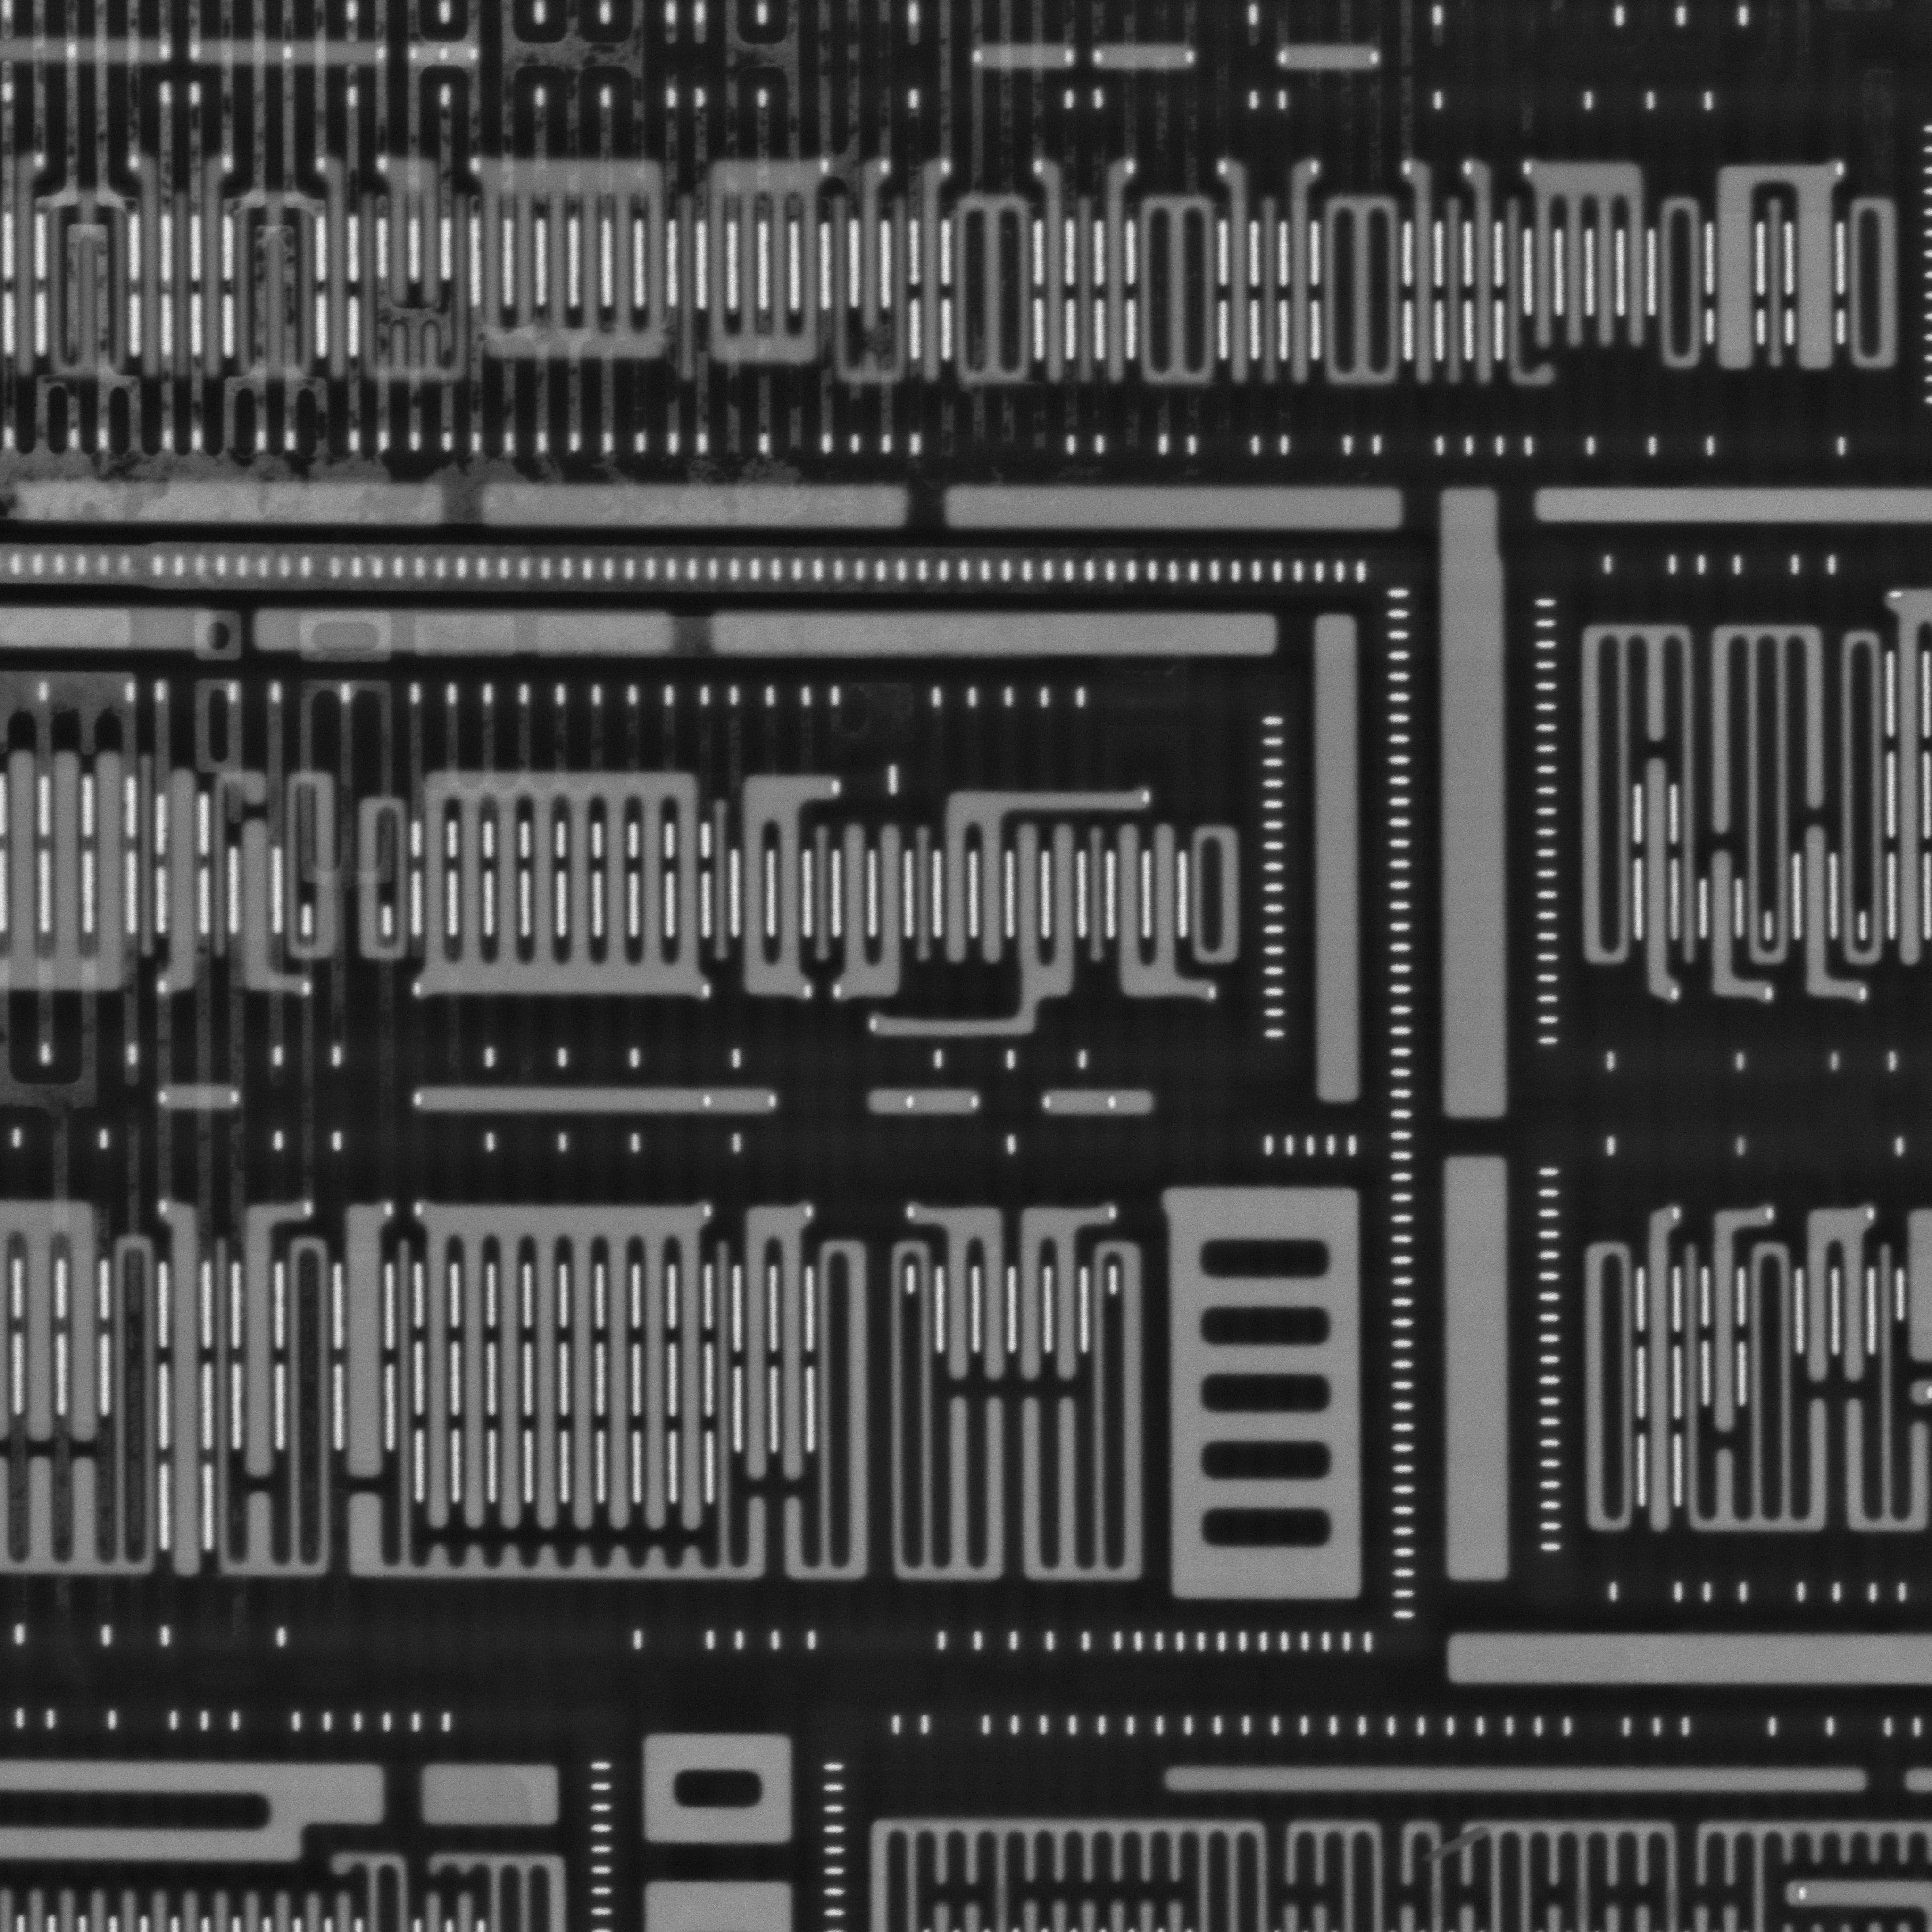circularDummy: (1437, 487, 1509, 1120), (1164, 1753, 1870, 1798), (1440, 1157, 1511, 1583), (708, 610, 1281, 658), (1315, 614, 1364, 1108), (941, 483, 1410, 533), (476, 483, 908, 525), (14, 485, 448, 522), (409, 1759, 570, 1828)
doubleGate: (869, 816, 1090, 1047), (932, 780, 1157, 970), (1702, 156, 1851, 382), (725, 766, 840, 1001), (734, 1192, 816, 1483), (1104, 816, 1219, 1007), (901, 1198, 1016, 1385), (1005, 1201, 1118, 1384), (828, 814, 913, 1007), (1794, 1203, 1877, 1389), (373, 152, 458, 311)
insideDummy: (1161, 1184, 1369, 1601), (640, 1721, 798, 1844)
multiGate: (409, 1191, 715, 1532), (402, 755, 715, 1000), (692, 147, 833, 379), (1520, 152, 1660, 354)
singleGate: (154, 1201, 218, 1585), (230, 1194, 315, 1481), (1877, 582, 1932, 970), (333, 1191, 396, 1481), (1631, 1198, 1684, 1543), (1702, 1198, 1776, 1433), (1790, 823, 1874, 1007), (1391, 156, 1447, 400), (1695, 851, 1782, 1010), (1635, 761, 1686, 1012), (310, 149, 363, 384), (1456, 156, 1506, 402), (1212, 152, 1261, 395), (1277, 149, 1323, 398), (1028, 157, 1077, 386), (909, 159, 957, 387), (1093, 152, 1138, 391)
